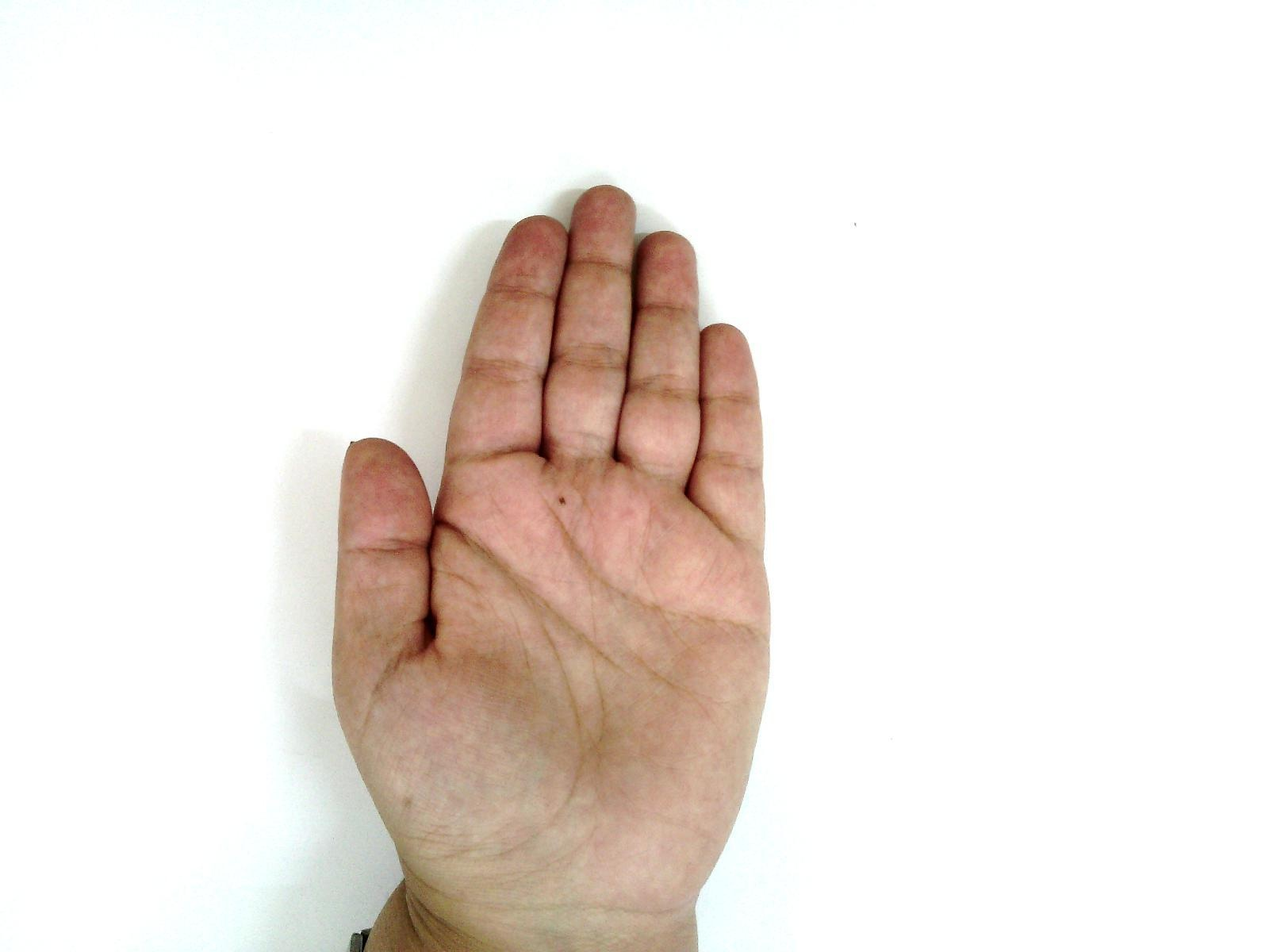open_palm: (328, 184, 777, 918)
